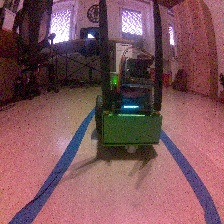rob: (93, 56, 163, 155)
